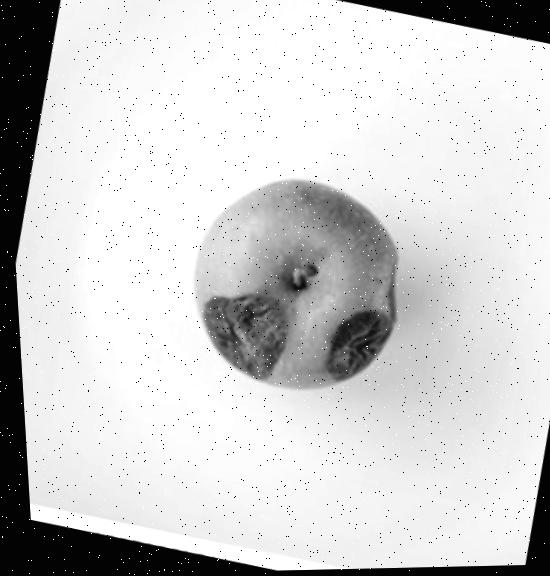ROT: (135, 139, 457, 430)
